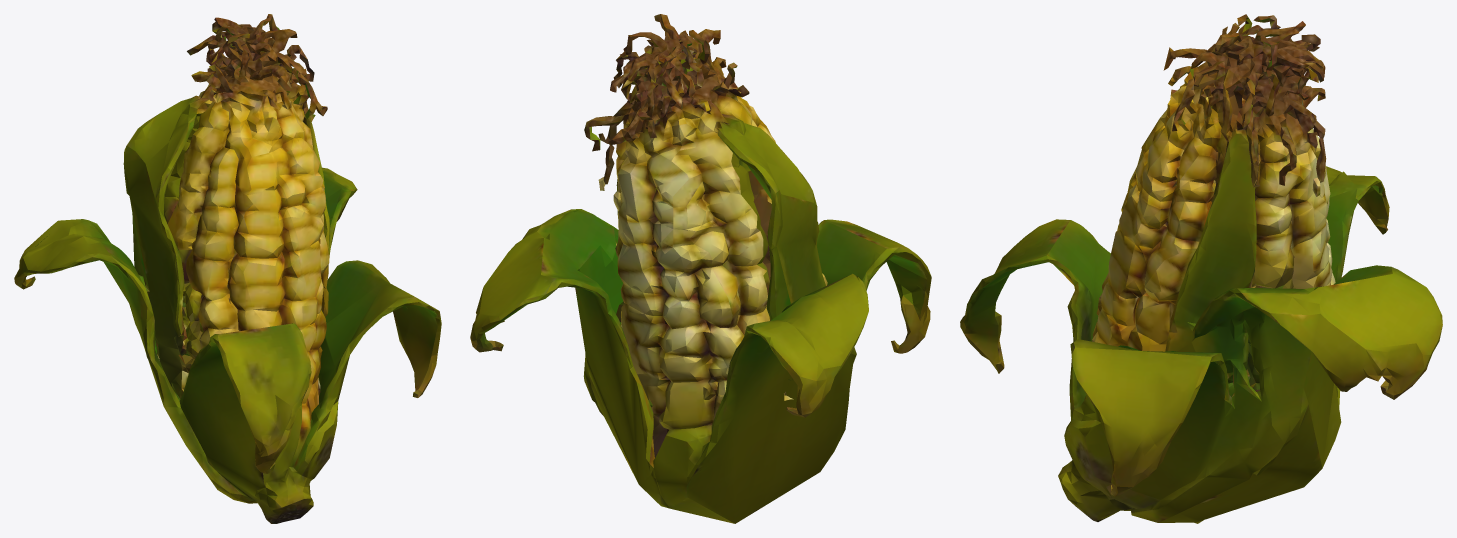
The model's file is corn-cob-projectile.glb.
The picture shows the model from 3 angles, left to right: view 1: azimuth 30°, elevation 25°; view 2: azimuth 150°, elevation 25°; view 3: azimuth 270°, elevation 25°; orthographic projection. The views are drawn at different scales.
Parts seen in each view (by area): view 1: tmpvr0m_sqk.ply; view 2: tmpvr0m_sqk.ply; view 3: tmpvr0m_sqk.ply.
Part boxes in pixels (x1,y1,x2,y2): tmpvr0m_sqk.ply: [14, 14, 441, 523]; tmpvr0m_sqk.ply: [470, 14, 931, 523]; tmpvr0m_sqk.ply: [960, 14, 1442, 523].
Bounding box in the file's own units: 1.49 × 2 × 1.71.
1 material, 1 textured.
